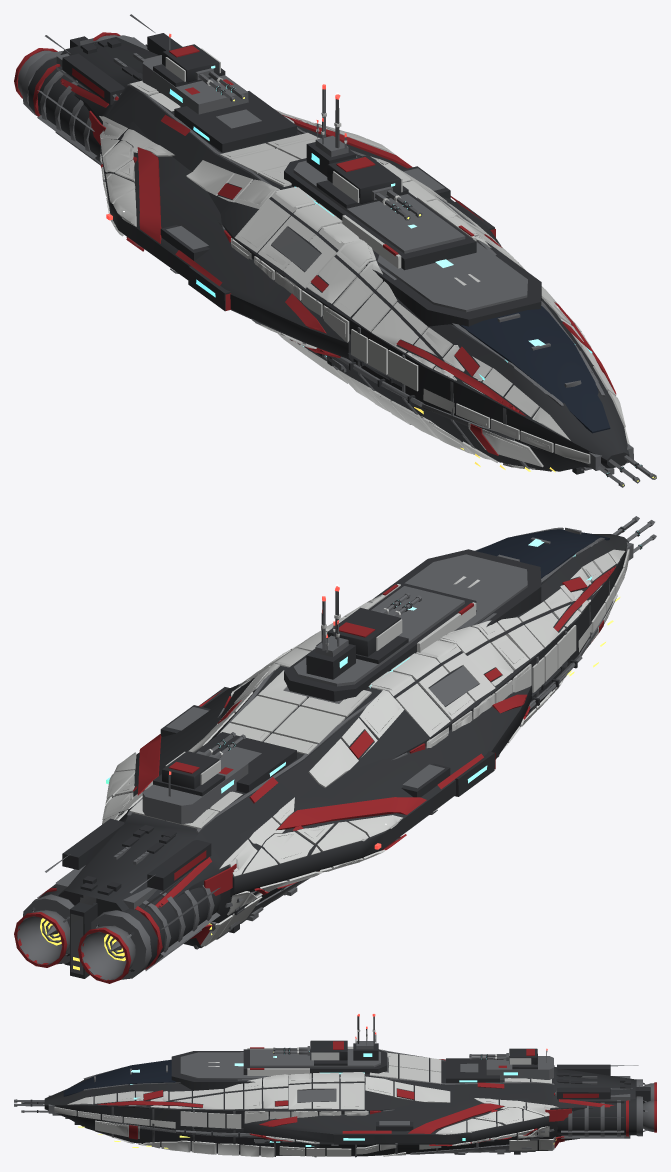
The picture shows the model from 3 angles, top to bottom: view 1: azimuth 30°, elevation 25°; view 2: azimuth 150°, elevation 25°; view 3: azimuth 270°, elevation 25°; orthographic projection. The views are drawn at different scales.
Parts seen in each view (by area): view 1: SR01_Coque, SR01_Tourelle_T1, SR01_Tourelle_T2; view 2: SR01_Coque, SR01_Tourelle_T1, SR01_Tourelle_T2; view 3: SR01_Coque, SR01_Tourelle_T1, SR01_Tourelle_T2.
Part boxes in pixels (x1,y1,x2,y2): SR01_Coque: (14,14,656,487); SR01_Tourelle_T1: (316,155,422,220); SR01_Tourelle_T2: (153,44,245,102); SR01_Coque: (14,516,656,983); SR01_Tourelle_T1: (316,592,421,663); SR01_Tourelle_T2: (153,732,245,796); SR01_Coque: (14,1012,656,1157); SR01_Tourelle_T1: (273,1040,347,1065); SR01_Tourelle_T2: (469,1048,537,1069).
Bounding box in the file's own units: 19.56 × 16.08 × 71.46.
